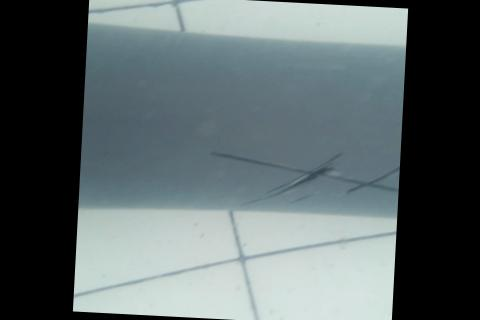keretakan: (206, 144, 400, 214)
